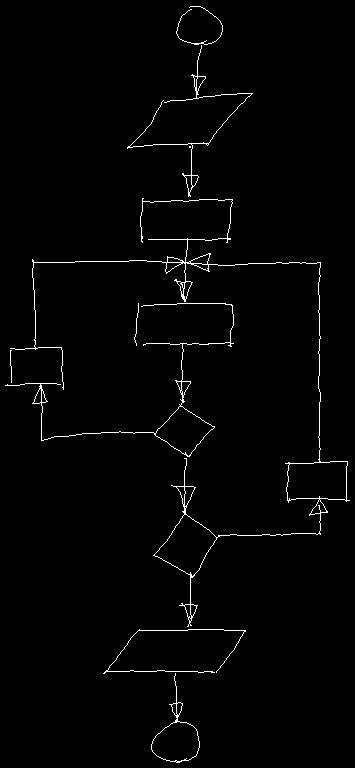arrow: (184, 253, 320, 462), (32, 256, 185, 349), (32, 383, 154, 440), (218, 496, 327, 536), (171, 458, 195, 514), (174, 238, 192, 301), (179, 574, 197, 626), (175, 344, 190, 401), (182, 144, 198, 196), (191, 45, 205, 97), (169, 673, 182, 722)
connection: (151, 721, 199, 762), (176, 6, 222, 44)
data: (127, 93, 252, 148), (103, 629, 245, 673)
decision: (153, 511, 217, 577), (154, 401, 214, 456)
process: (134, 303, 233, 346), (140, 198, 232, 242), (285, 461, 349, 502), (5, 347, 63, 389)
